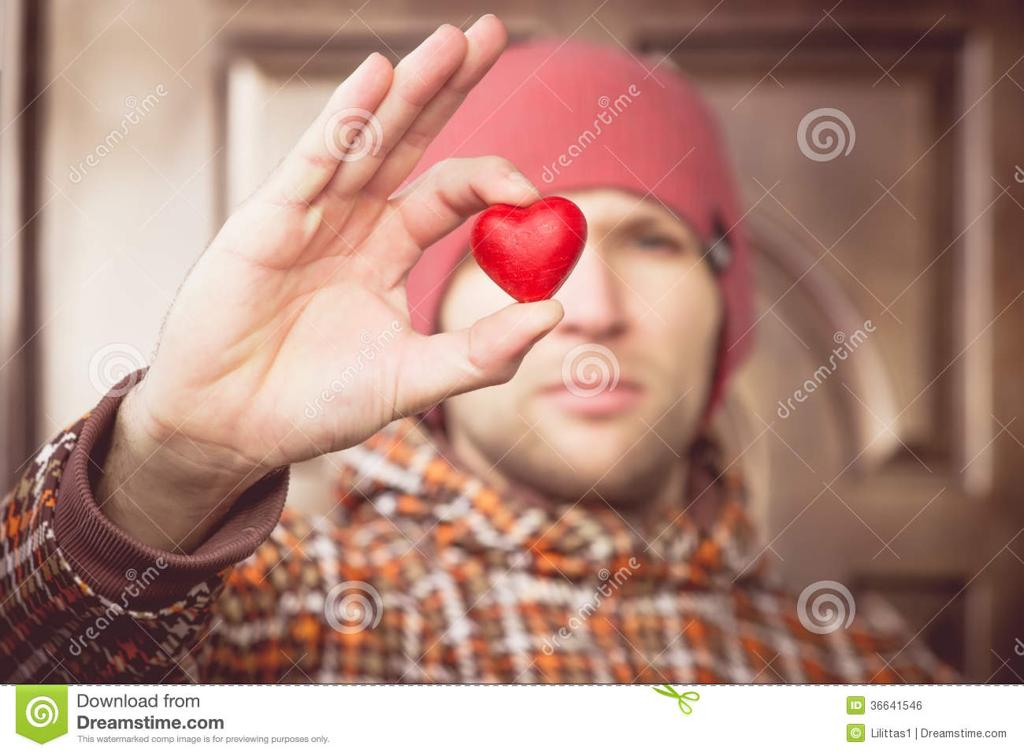face: (440, 140, 716, 502)
